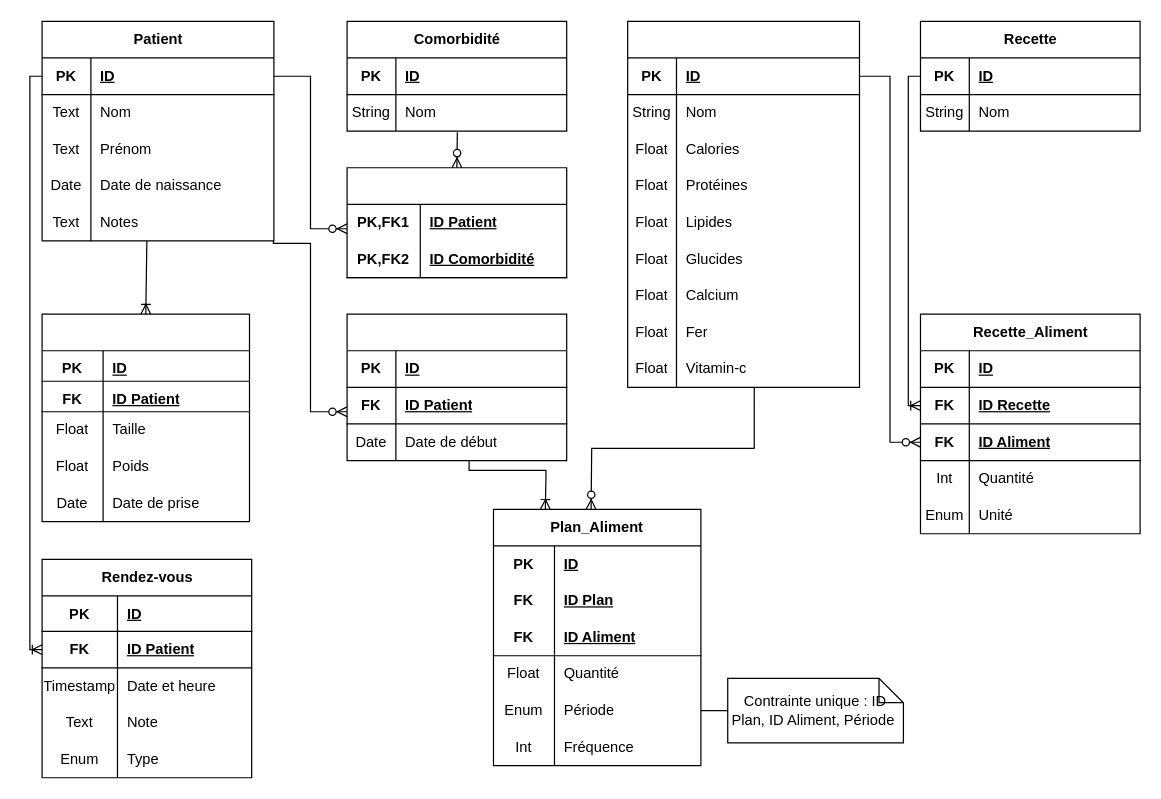
The diagram is 1161 pixels wide and 799 high, and some of its shapes have lost their labels. The box of each missing label's shape, as (x1, y1, x2, y2) in pixels:
Aliment: (626, 20, 859, 387)
Patient_Comorbidité: (346, 167, 567, 278)
Patient_Mesure: (41, 313, 249, 522)
Plan alimentaire: (346, 313, 567, 461)
